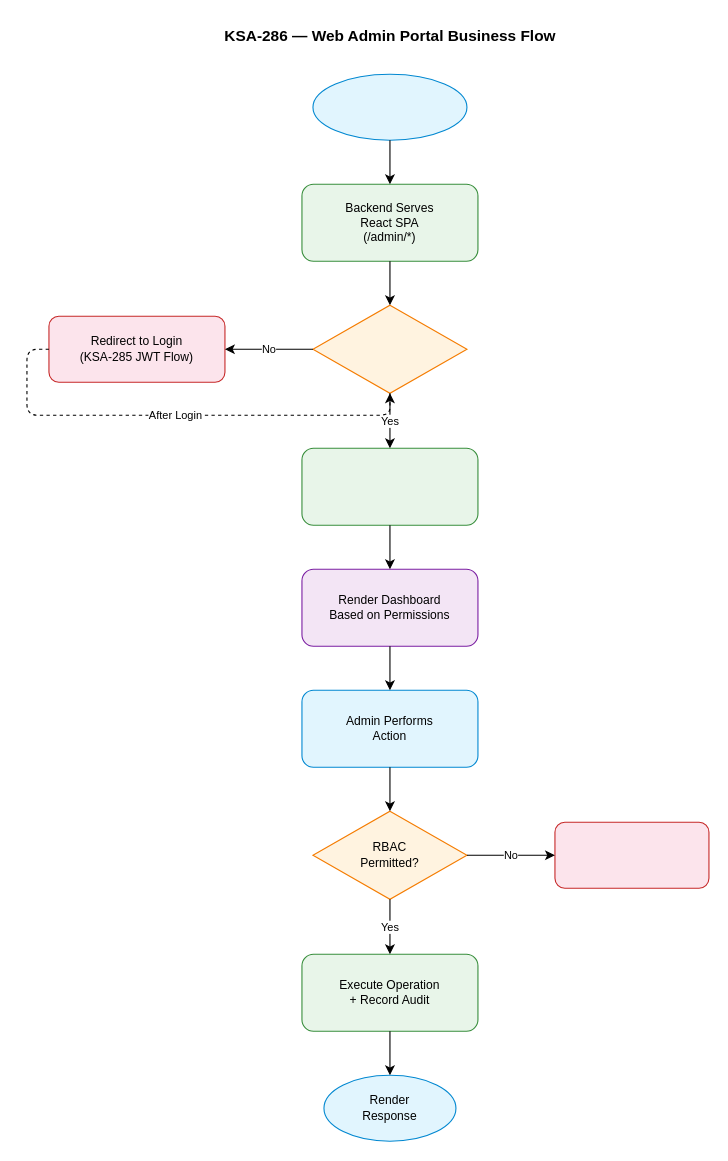
Image size: 728x1161. Some labels were removed from this diagram. The box of each missing label's shape, as (x1, y1, x2, y2) in pixels:
Admin Opens Browser: (312, 73, 467, 140)
Fetch User Profile + Permissions (/api/admin/me): (301, 447, 478, 525)
Return 403 Forbidden: (554, 821, 709, 888)
Valid JWT?: (312, 304, 467, 393)
